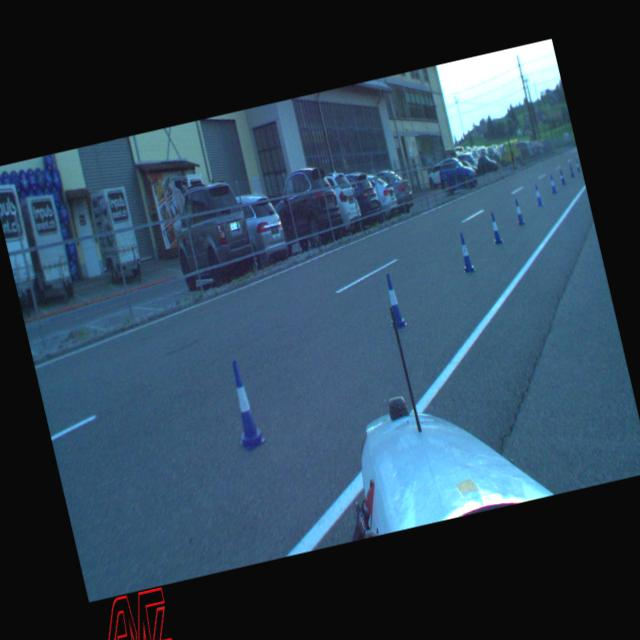blue_cone: (222, 358, 266, 450), (379, 272, 407, 328), (456, 232, 476, 272), (486, 210, 504, 244), (512, 197, 524, 224), (533, 183, 543, 206), (548, 174, 556, 194), (558, 168, 566, 185), (574, 158, 580, 172), (568, 164, 574, 178)
